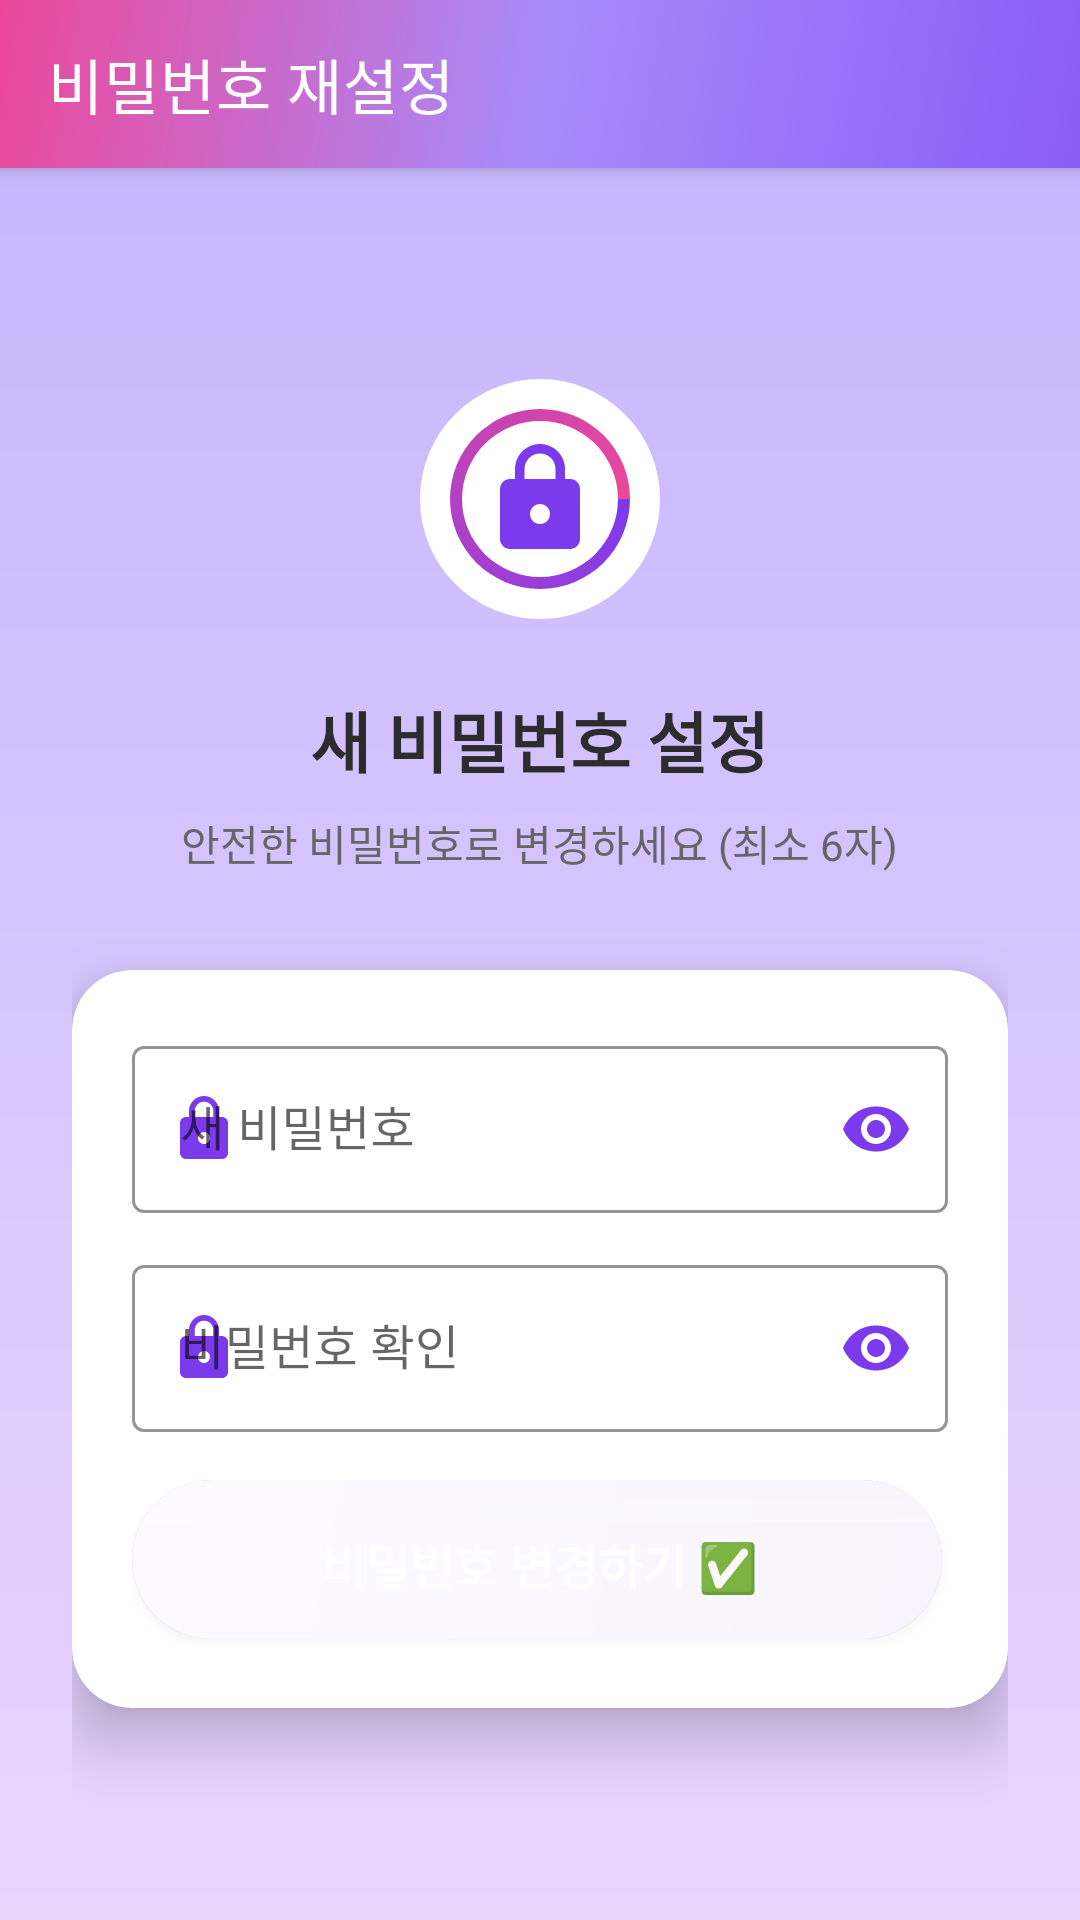

Screen size 1080px×1920px. Icon name, then its box in pixels as (x1, y1, x2, y2):
lock: (420, 379, 660, 619)
